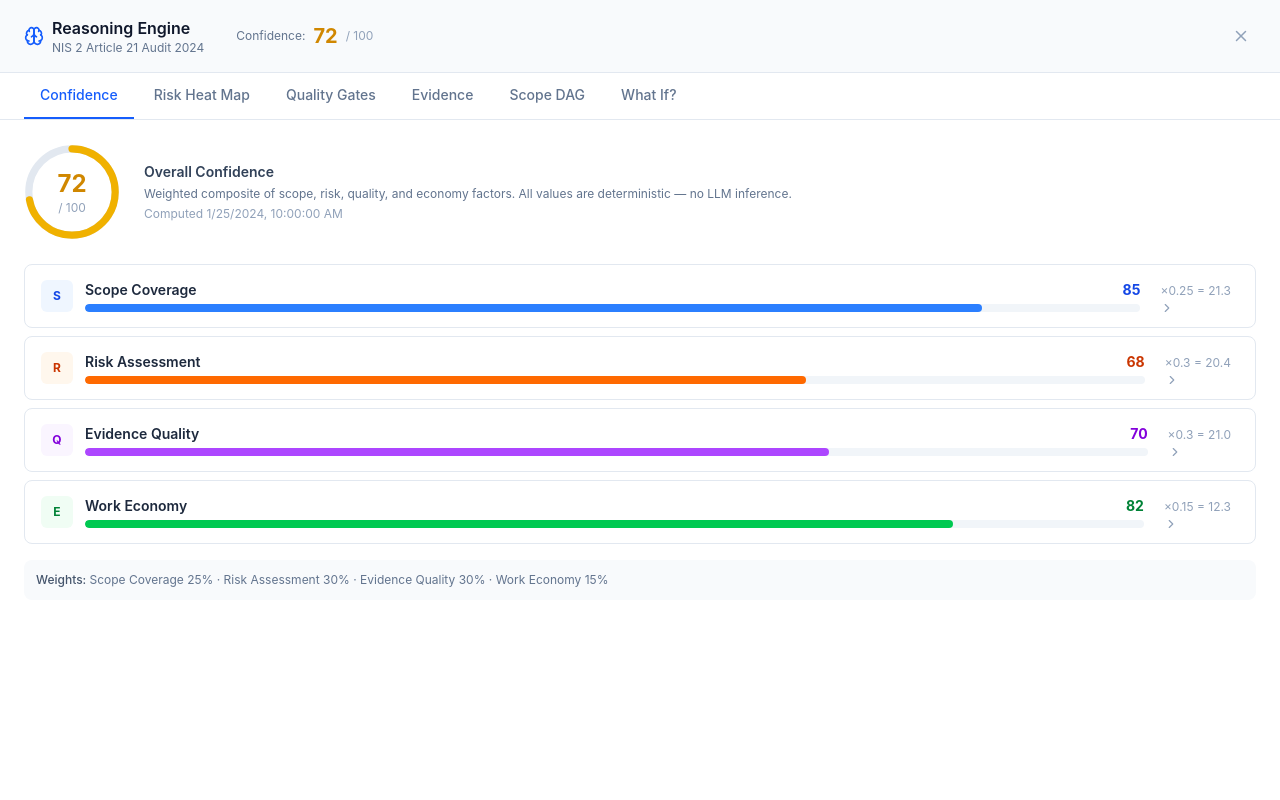
Test: ReasoningEngineOverlay › switches to quality gate tab
Click the button with test id "tab-quality" at (331, 96), box [270, 73, 392, 119]
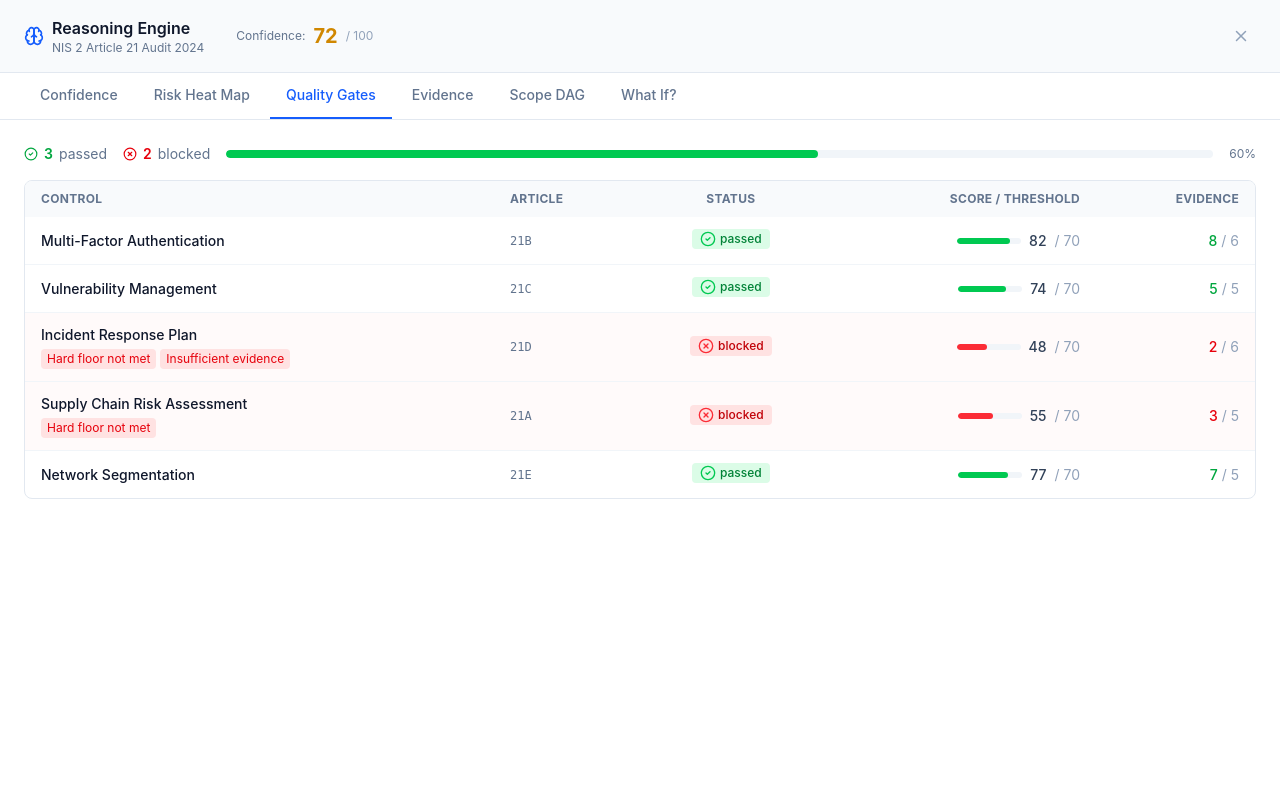
Check: the element with test id "quality-gate-status" is shown, box [24, 144, 1256, 499]
